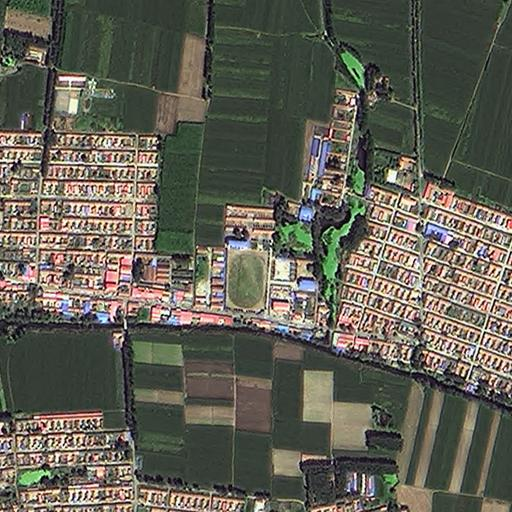school: (221, 204, 315, 318)
